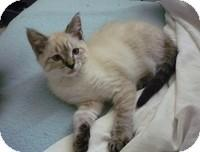siamese: (24, 10, 95, 86)
